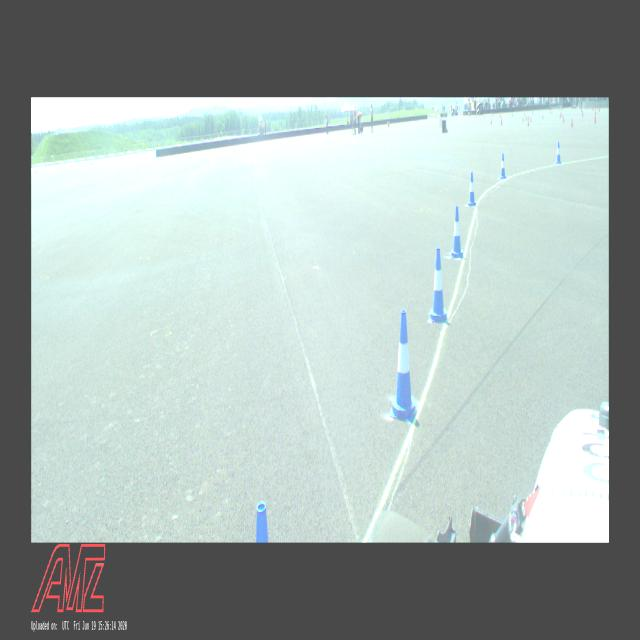blue_cone: (389, 310, 418, 422), (430, 248, 448, 320), (451, 206, 463, 258), (468, 172, 476, 206), (500, 153, 506, 179), (556, 142, 562, 164)
